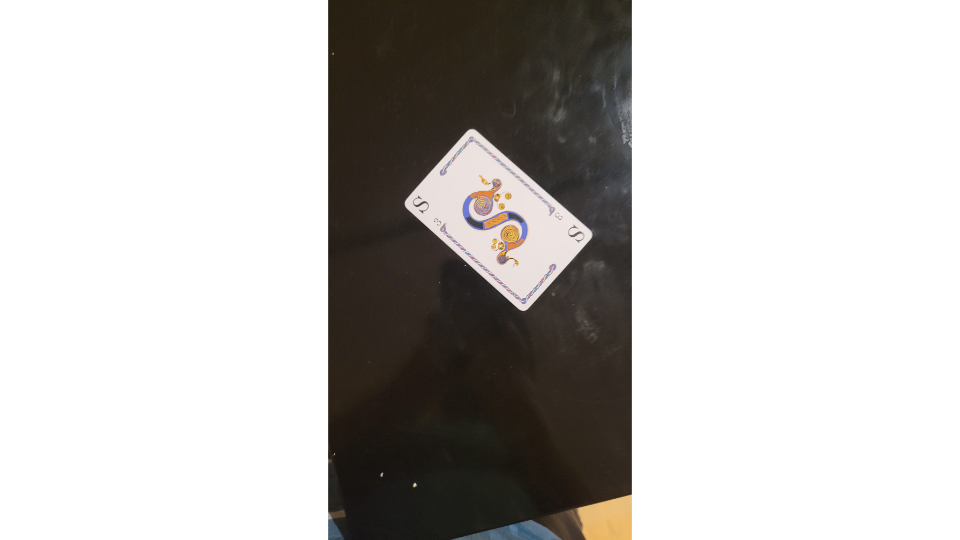S: (401, 127, 596, 313)
